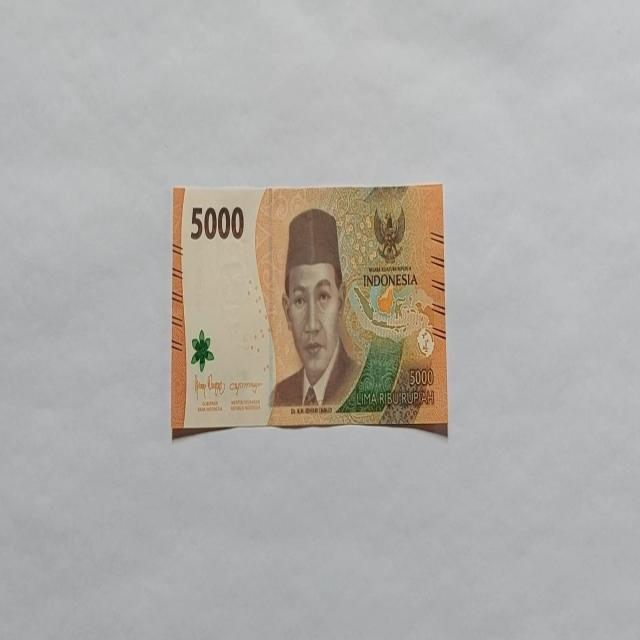lima ribu rupiah: (171, 182, 447, 438), (268, 206, 362, 412)
